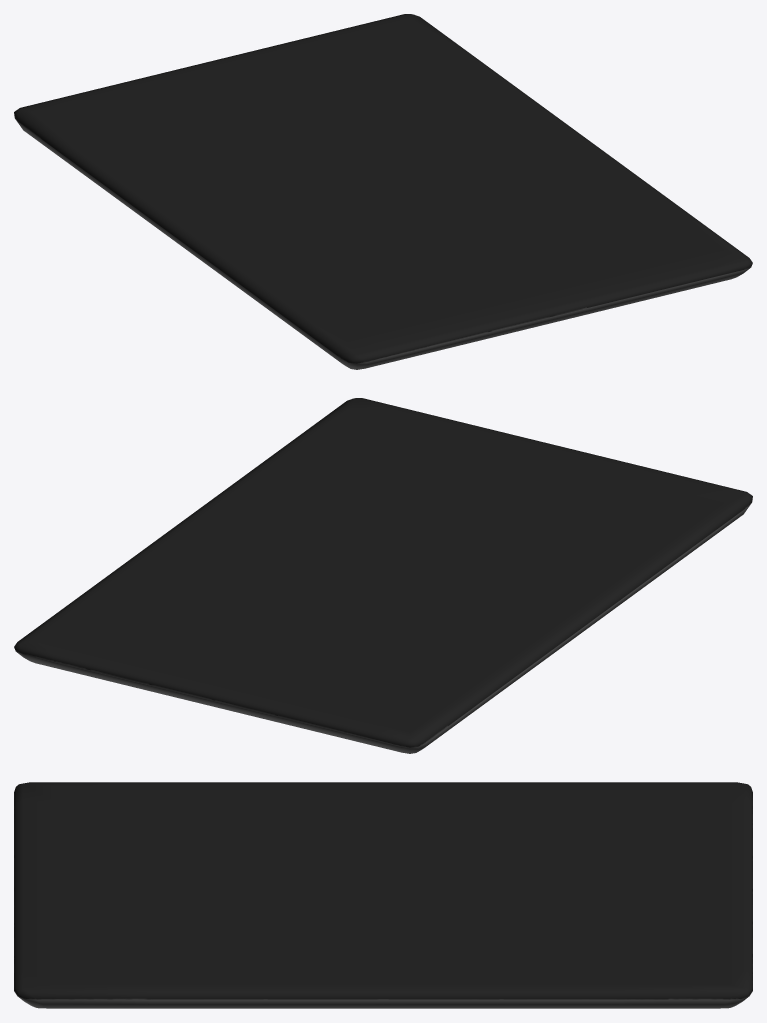
File: tablet.fbx
3 renders of one model, top to bottom at view 1: azimuth 30°, elevation 25°; view 2: azimuth 150°, elevation 25°; view 3: azimuth 270°, elevation 25°, orthographic. The views are drawn at different scales.
Visible parts, largest first — view 1: Tablet; view 2: Tablet; view 3: Tablet.
Boxes of the visible parts, x1,y1,x2,y2 form: Tablet: [14, 14, 752, 369]; Tablet: [14, 398, 752, 753]; Tablet: [14, 782, 752, 1008].
Size of the model in its own units: 17.05 by 0.9772 by 24.96.
